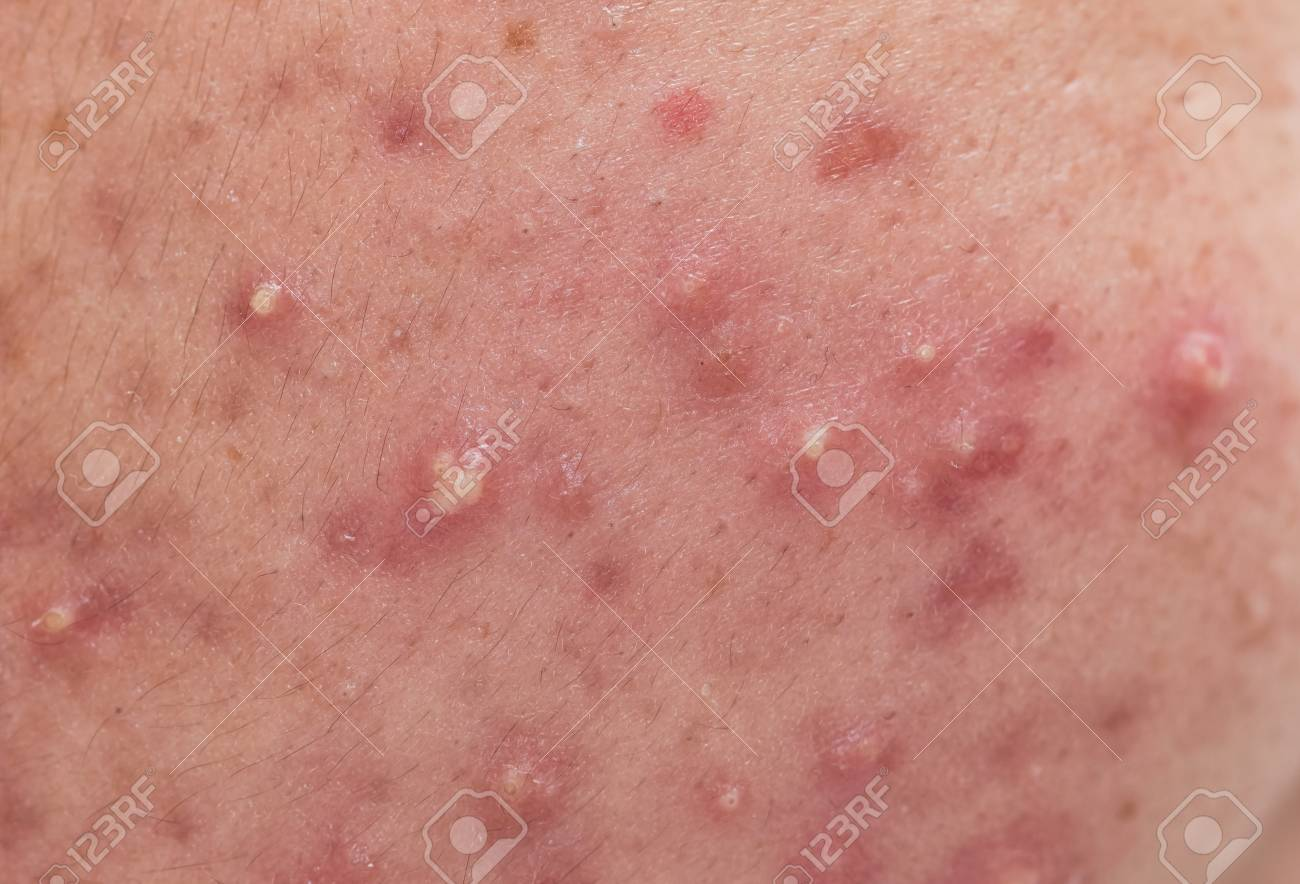acene: (102, 212, 1146, 842)
